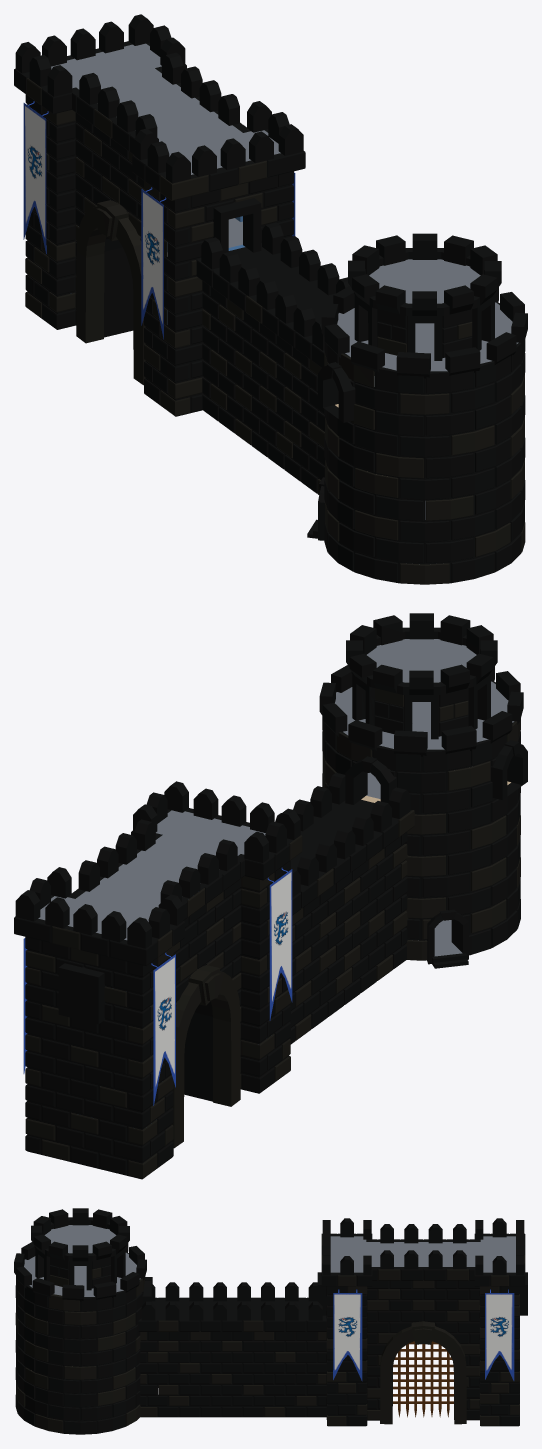
File: mountain_pass.glb
The picture shows the model from 3 angles, top to bottom: view 1: azimuth 30°, elevation 25°; view 2: azimuth 150°, elevation 25°; view 3: azimuth 270°, elevation 25°; orthographic projection. The views are drawn at different scales.
Parts seen in each view (by area): view 1: MountainPass.collider; view 2: MountainPass.collider; view 3: MountainPass.collider.
Part boxes in pixels (x1,y1,x2,y2): MountainPass.collider: (14, 14, 527, 584); MountainPass.collider: (14, 613, 527, 1179); MountainPass.collider: (14, 1208, 527, 1434).
Bounding box in the file's own units: 2.16 × 3.1 × 8.07.
9 materials, 1 textured.
